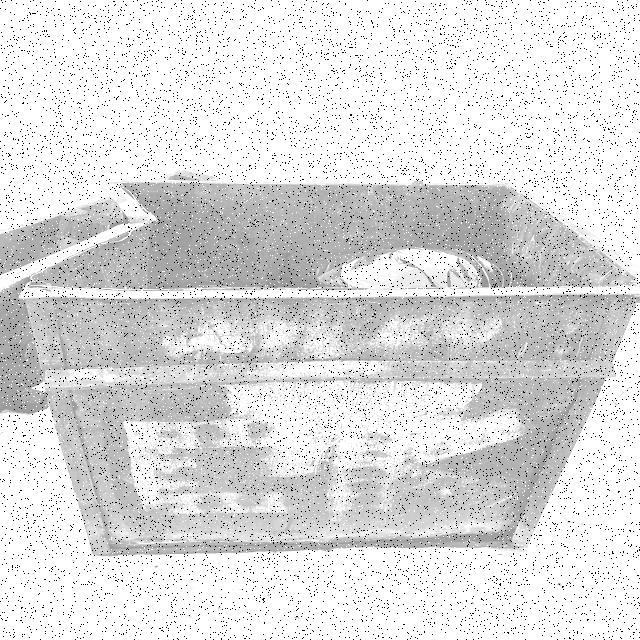Trashcan: (2, 150, 638, 573)
